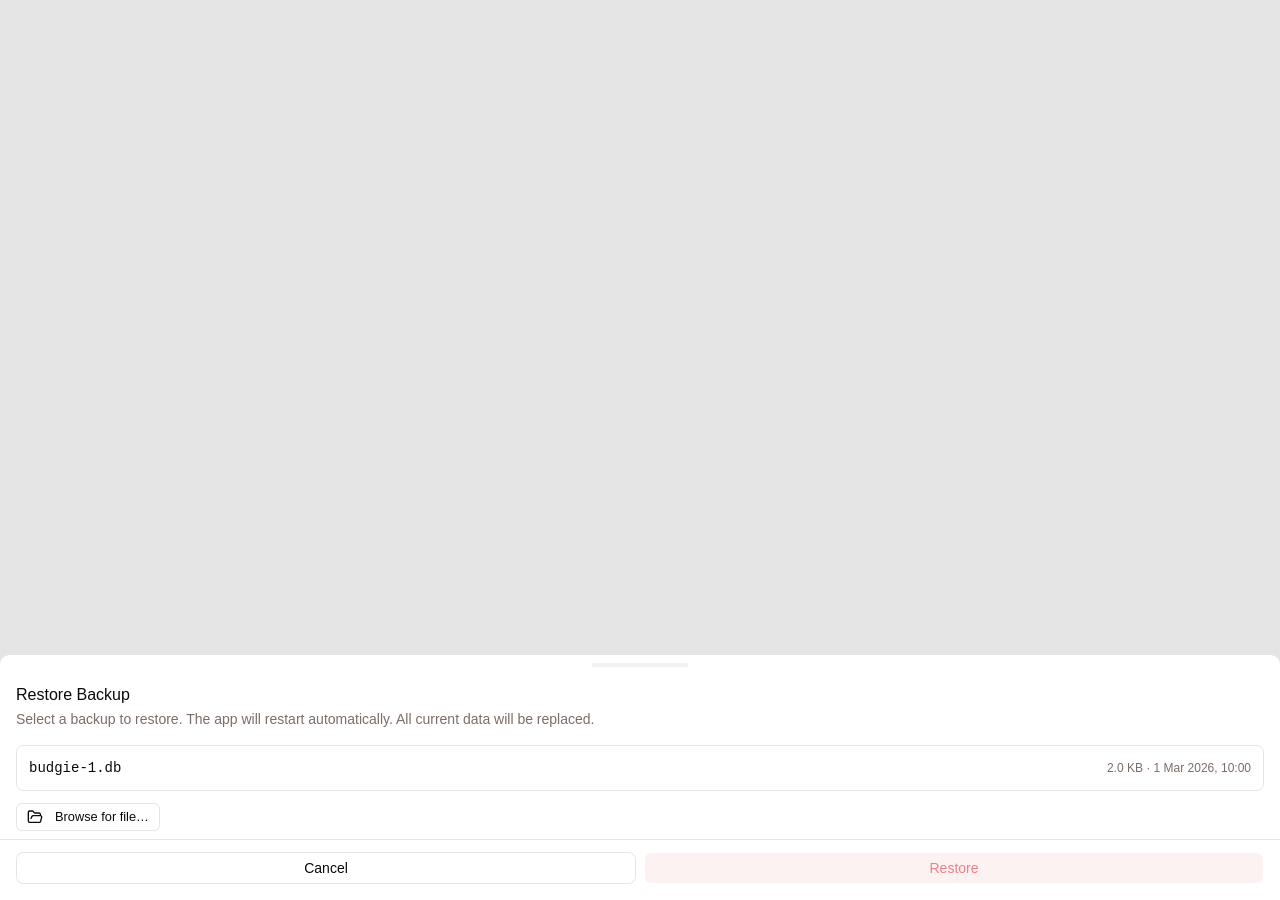
RestoreDialog (phone drawer) › requires a selection, then a destructive confirmation with all warnings
This screenshot has width=1280, height=900.
Expected: the dialog is shown, [0,654,1279,899]
Expected: the button "Restore" is disabled, [644,852,1264,884]
Click the button "budgie-1.db 2.0 KB · 1 Mar 2026, 10:00" at (75, 768), box [17,746,1263,790]
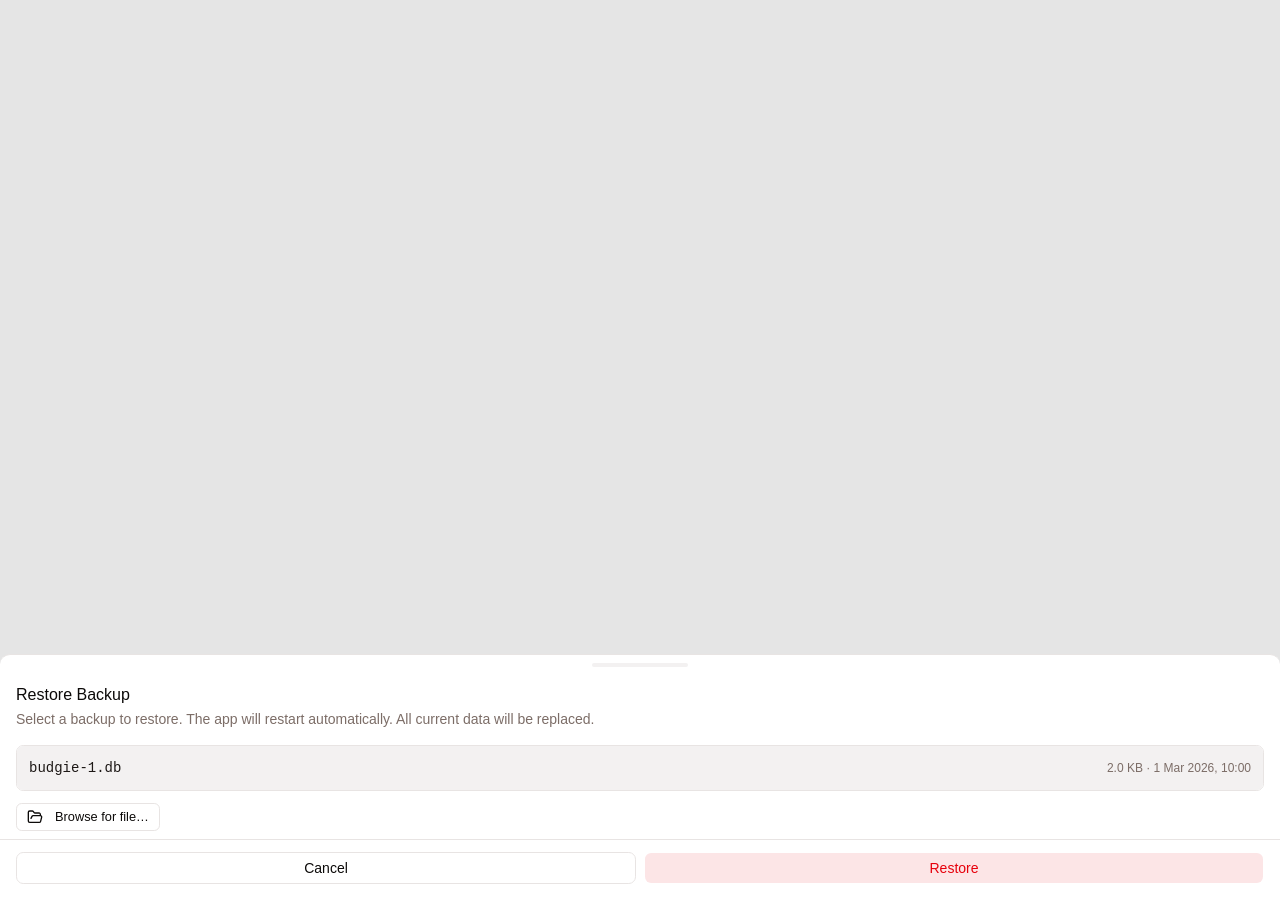
Click the button "Restore" at (954, 868), box [644,852,1264,884]
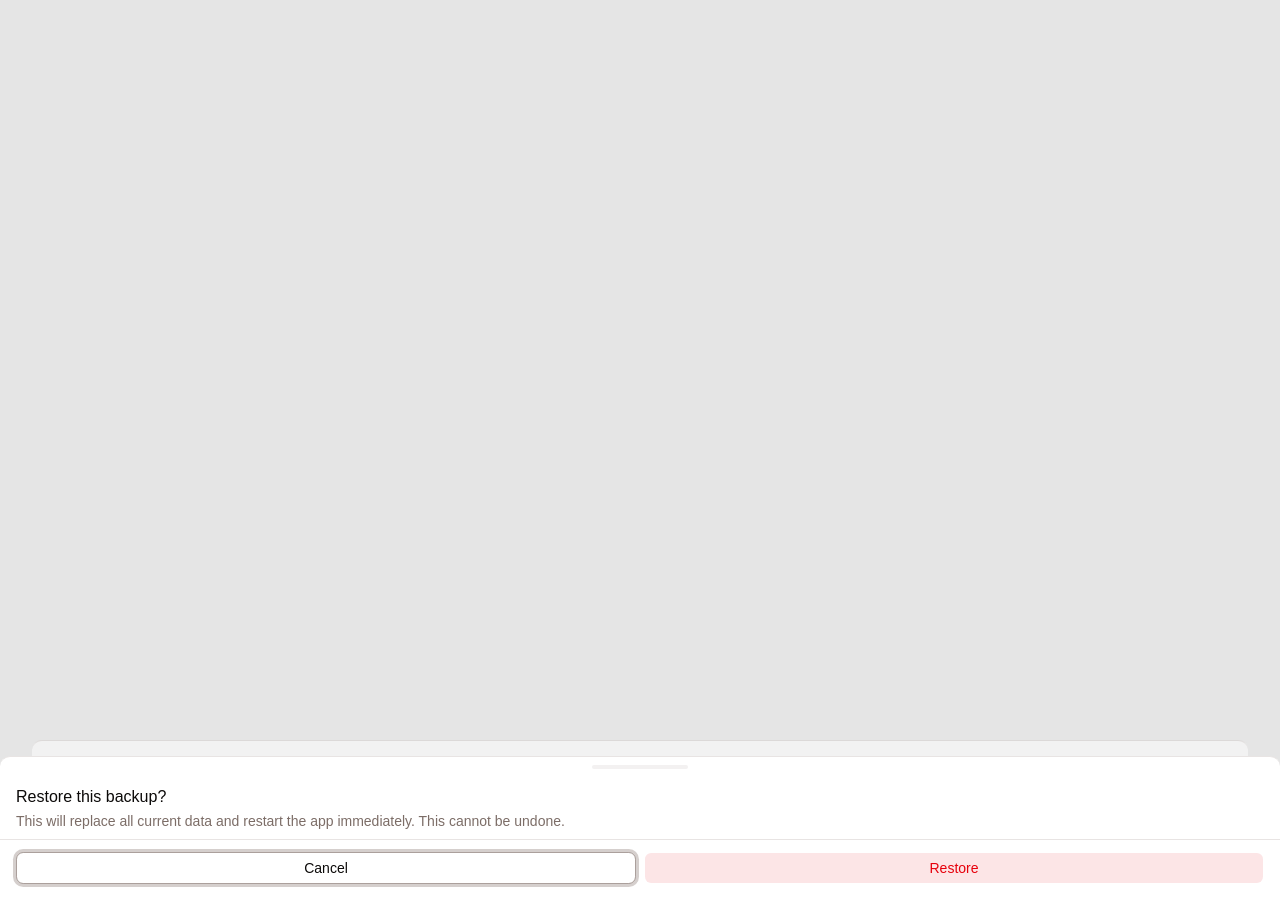
Result: the heading "Restore this backup?" is shown at [16,788,166,805]
Result: the text "This will replace all current data and restart the app immediately. This cannot be undone." is shown at [16,813,565,829]
